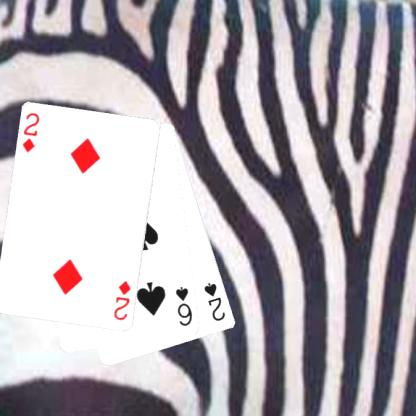2D: (111, 278, 132, 323), (20, 110, 41, 154)
2S: (201, 280, 227, 322)
6S: (173, 284, 194, 328)
